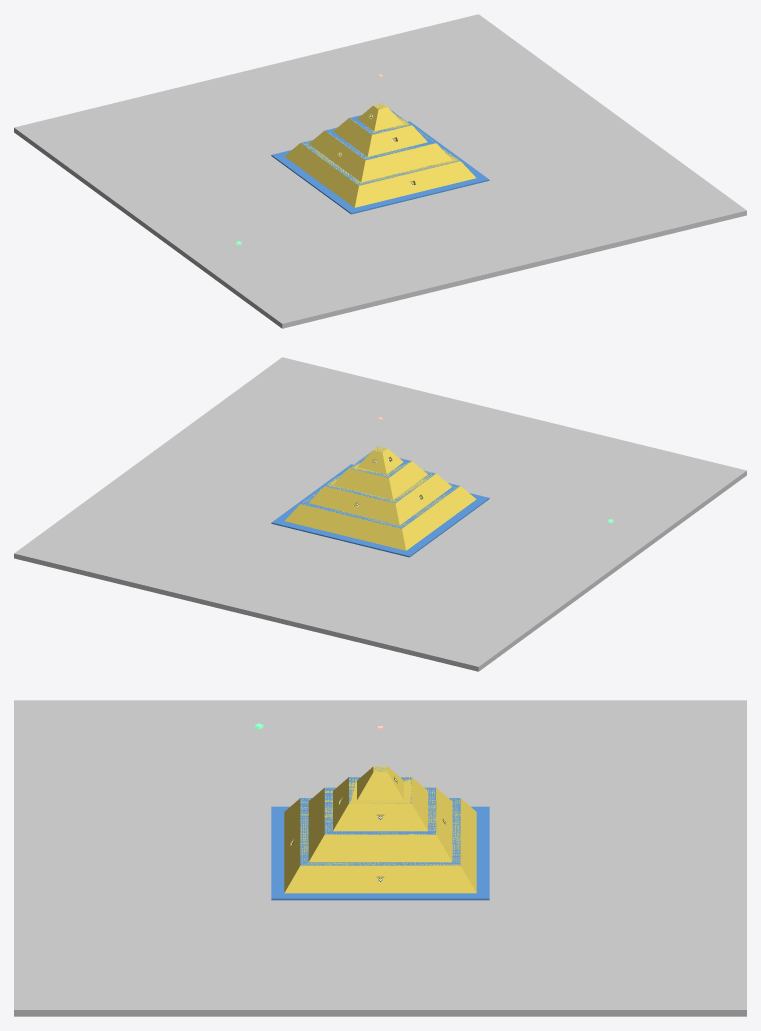
3 views of the same model, one above another, from view 1: azimuth 30°, elevation 25°; view 2: azimuth 150°, elevation 25°; view 3: azimuth 270°, elevation 25° (orthographic). The views are drawn at different scales.
Parts seen in each view (by area): view 1: RJ_Kill, Slope_1, Slope_2, Slope_3, Apron, Slope_4, Flat_1, Flat_2; view 2: RJ_Kill, Slope_1, Slope_2, Slope_3, Apron, Slope_4, Flat_1; view 3: RJ_Kill, Slope_1, Slope_2, Apron, Slope_3, Flat_1, Slope_4, Flat_2.
Boxes of the visible parts, <box> form: RJ_Kill: <box>14,14,746,328</box>; Slope_1: <box>284,140,476,207</box>; Slope_2: <box>309,127,451,182</box>; Slope_3: <box>333,110,427,156</box>; Apron: <box>271,121,489,214</box>; Slope_4: <box>357,103,403,131</box>; Flat_1: <box>301,140,460,185</box>; Flat_2: <box>325,127,435,160</box>; RJ_Kill: <box>14,357,746,671</box>; Slope_1: <box>284,484,476,550</box>; Slope_2: <box>309,470,451,525</box>; Slope_3: <box>333,452,427,499</box>; Apron: <box>271,464,489,557</box>; Slope_4: <box>357,446,403,474</box>; Flat_1: <box>300,483,459,528</box>; RJ_Kill: <box>14,700,746,1016</box>; Slope_1: <box>284,798,476,893</box>; Slope_2: <box>308,787,452,862</box>; Apron: <box>271,806,489,900</box>; Slope_3: <box>333,777,427,831</box>; Flat_1: <box>300,798,460,865</box>; Slope_4: <box>357,766,403,800</box>; Flat_2: <box>324,787,436,834</box>.
Size of the model in its own units: 3200 by 649 by 3200.
